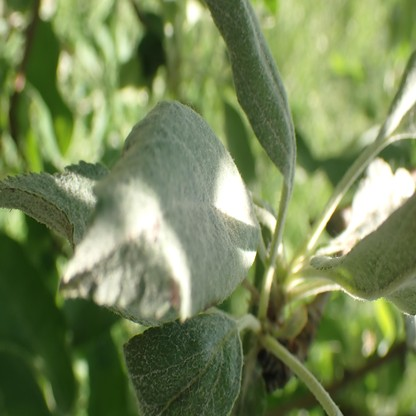powder: (61, 102, 257, 320), (207, 0, 297, 183), (312, 192, 416, 313), (122, 312, 242, 416), (2, 161, 110, 251)
